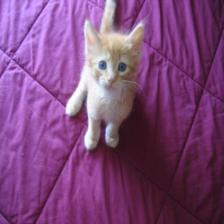cat: (82, 17, 150, 95)
